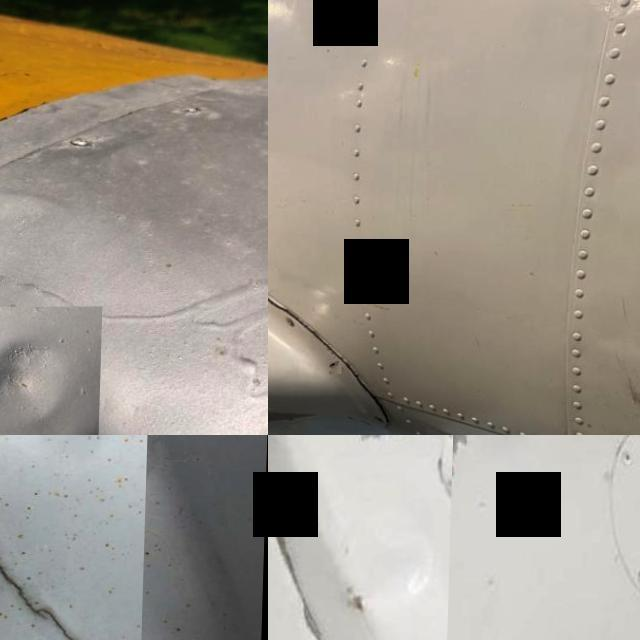Crack: (0, 551, 86, 640), (349, 352, 396, 427), (293, 309, 353, 367), (268, 290, 302, 315)
Dent: (268, 435, 386, 640), (0, 306, 104, 435)
Missing_Fastener: (331, 361, 344, 374)
